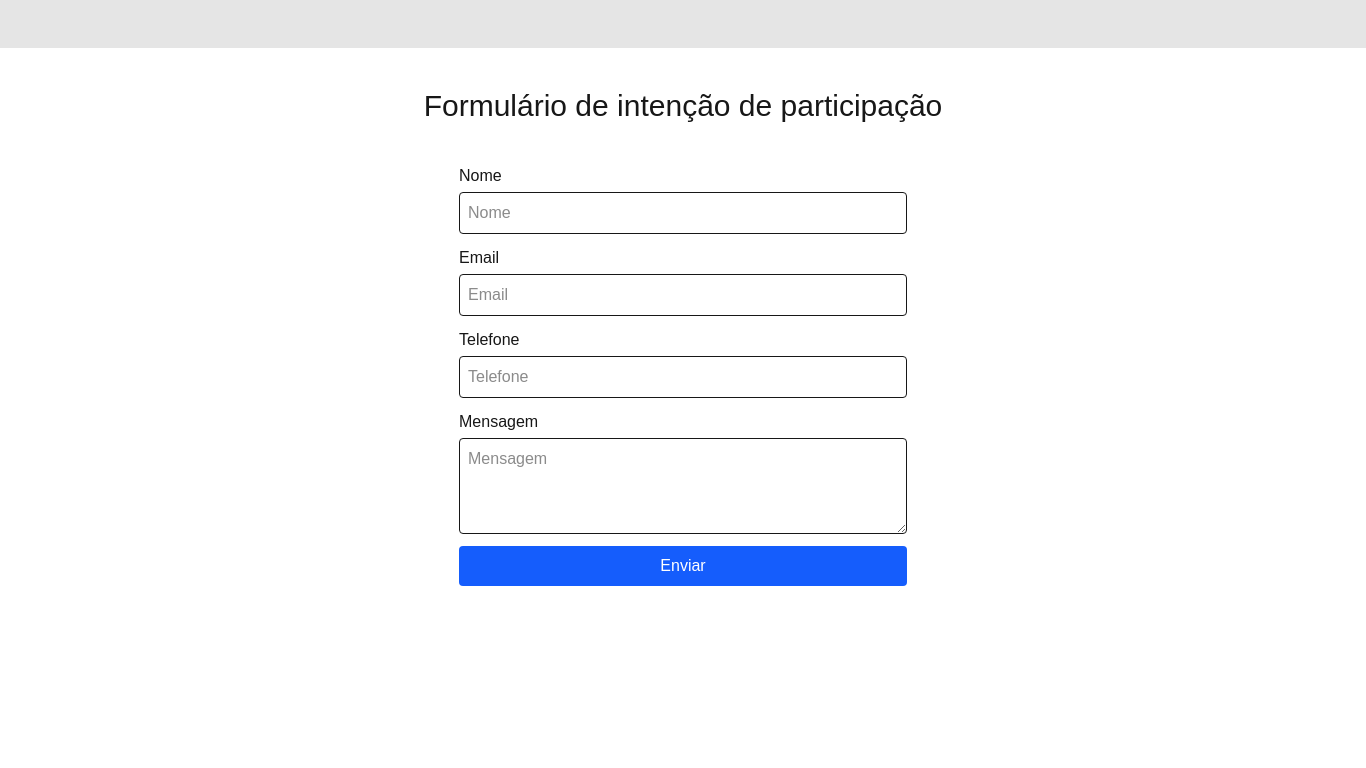
it: show toast on success
The width and height of the screenshot is (1366, 768).
Type "Jonh Doe" into the field with placeholder "Nome" at (683, 213), box [459,192,907,234]
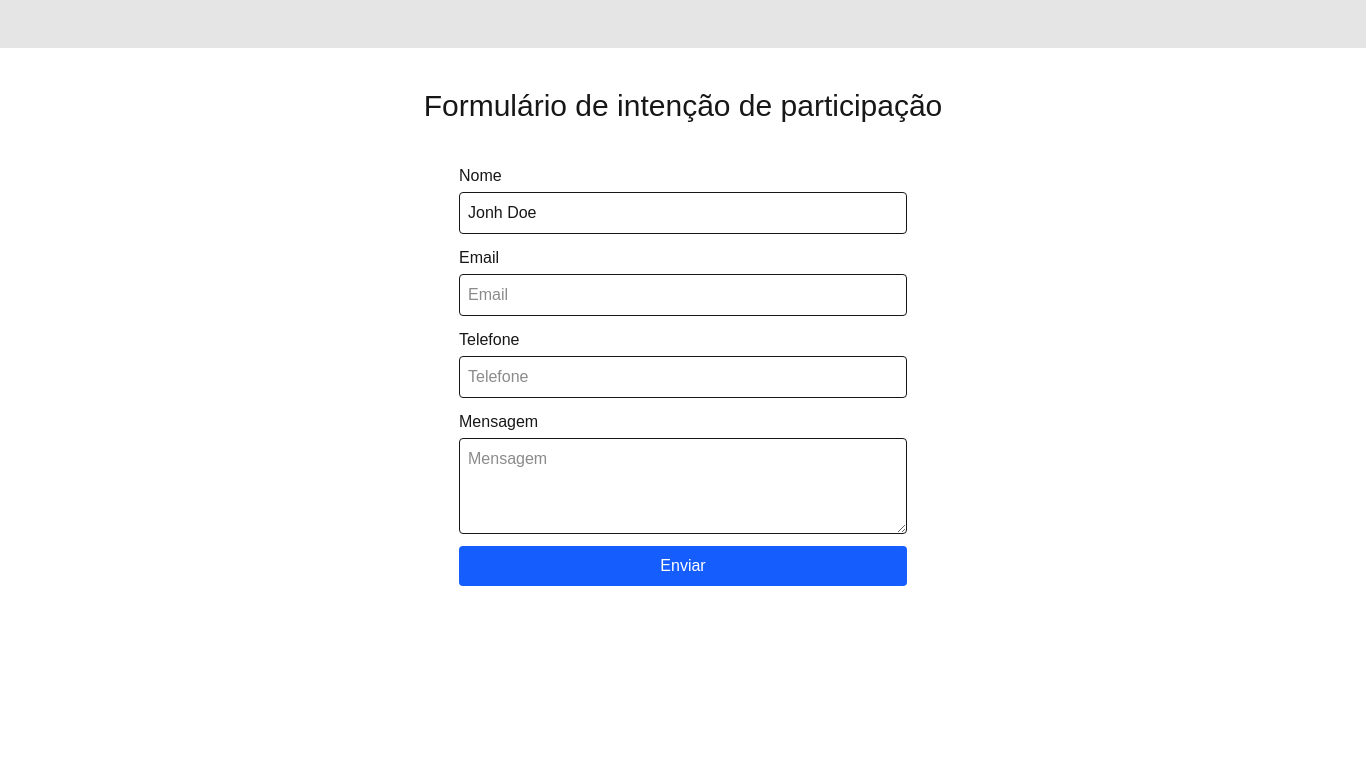
Type "jonhdoe@gmail.com" into the field with placeholder "Email" at (683, 295), box [459,274,907,316]
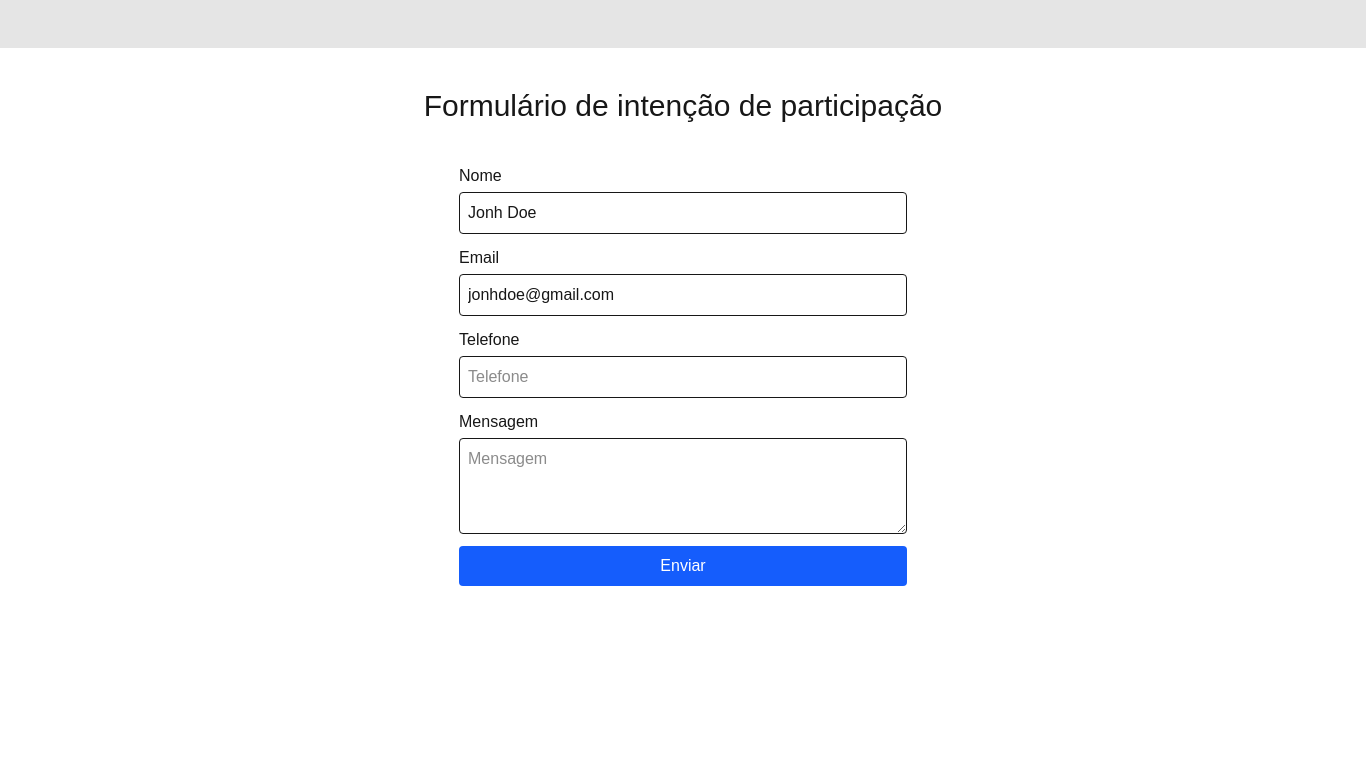
Type "12345678910" into the field with placeholder "Telefone" at (683, 377), box [459,356,907,398]
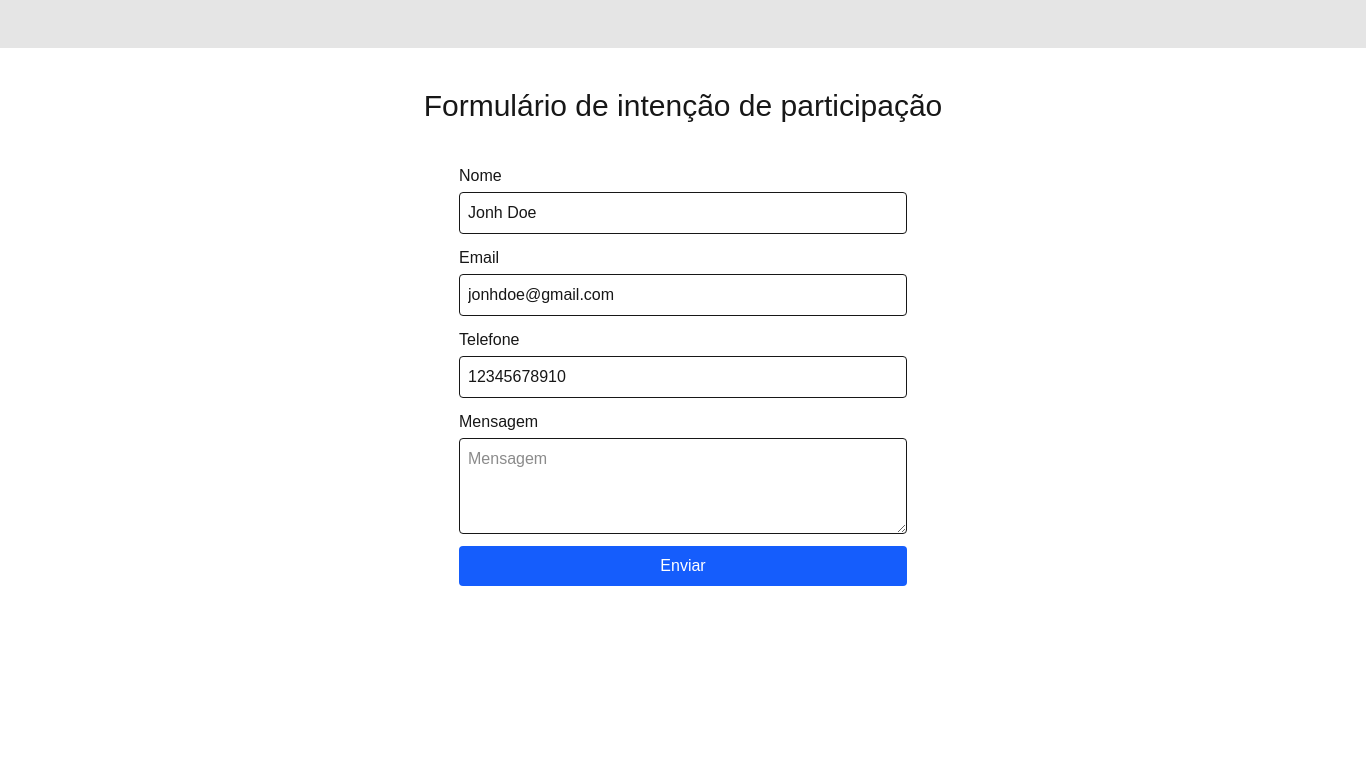
Type "Olá, tudo bem?" into the text box with placeholder "Mensagem" at (683, 486), box [459,438,907,534]
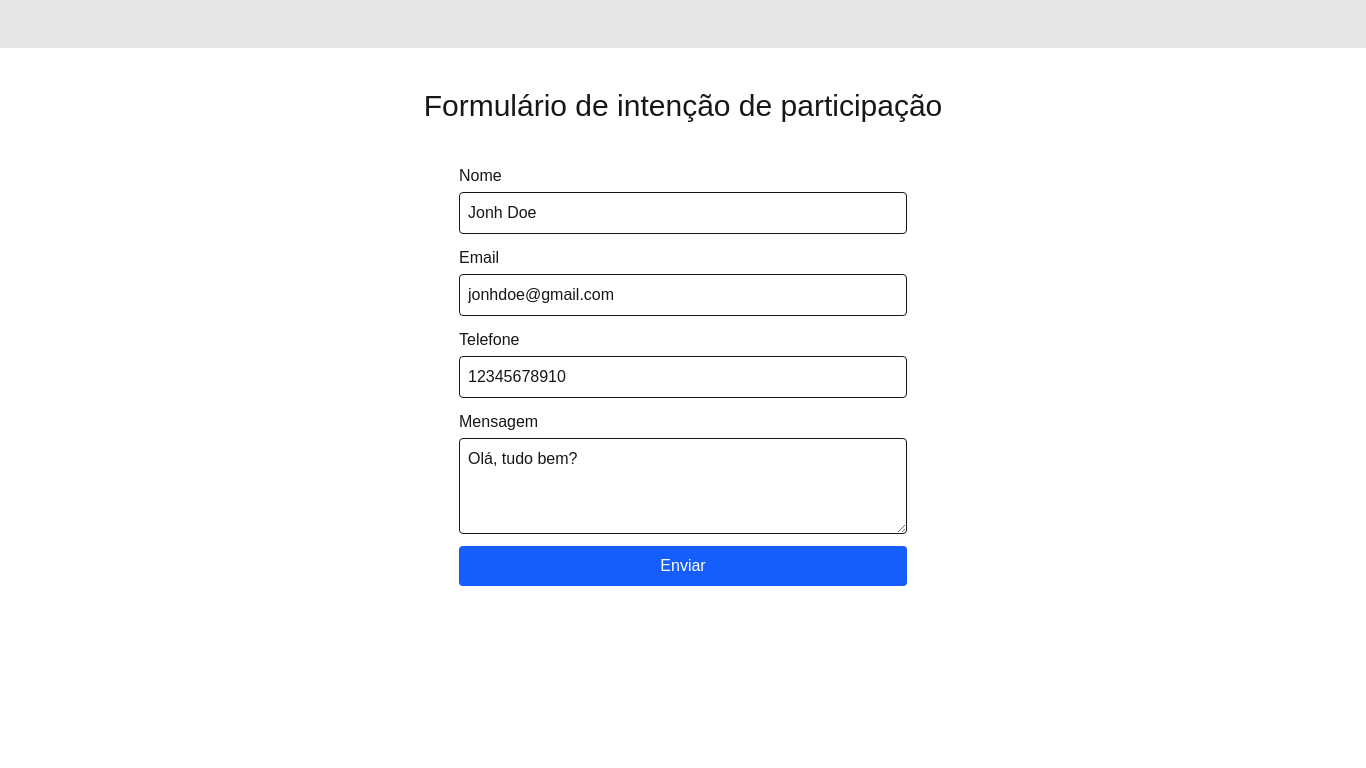
Click the button "Enviar" at (683, 566), box [459,546,907,586]
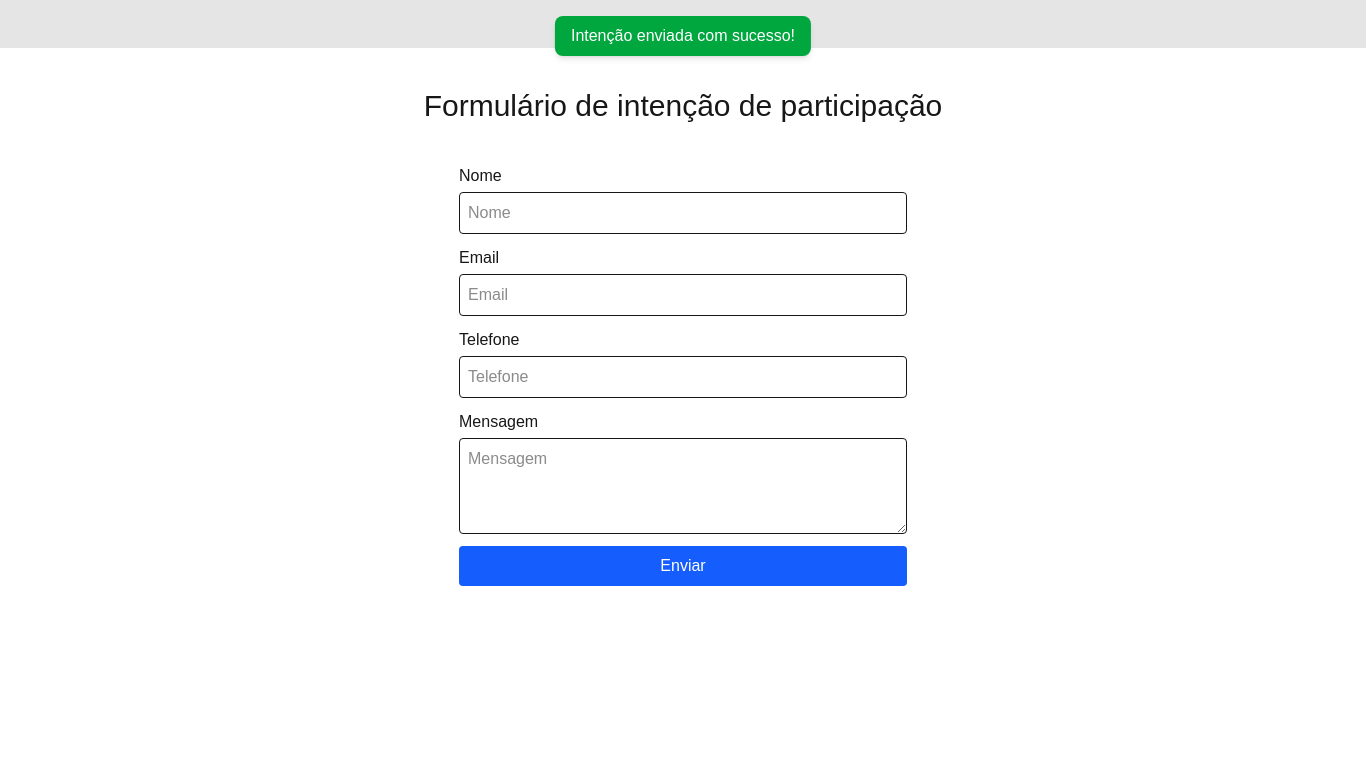
Now the text "Intenção enviada com sucesso!" is shown, box [555,16,811,56]
